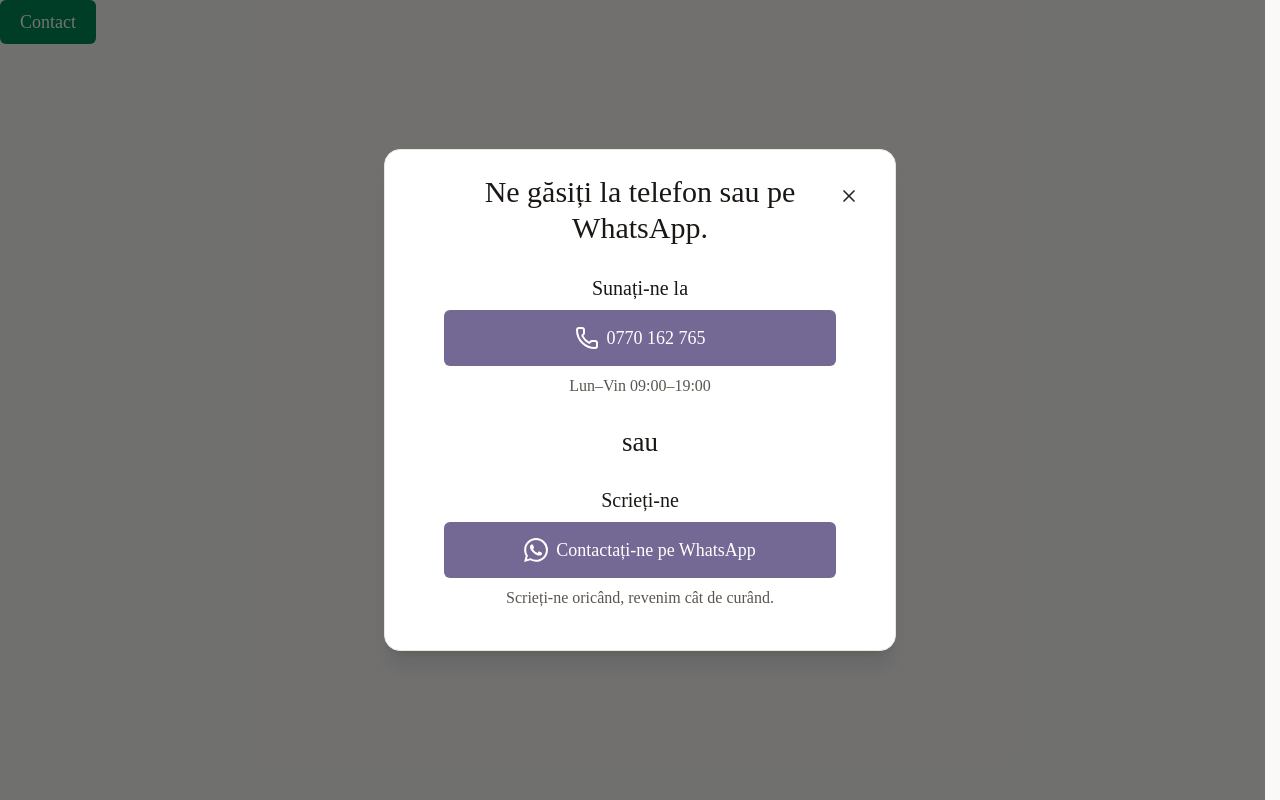
Test: ContactModal — every exit path (§9) › closes on a press that starts and ends on the scrim
Click the dialog "Ne găsiți la telefon sau pe WhatsApp.". click: (640, 400)
box: [384,149,896,651]
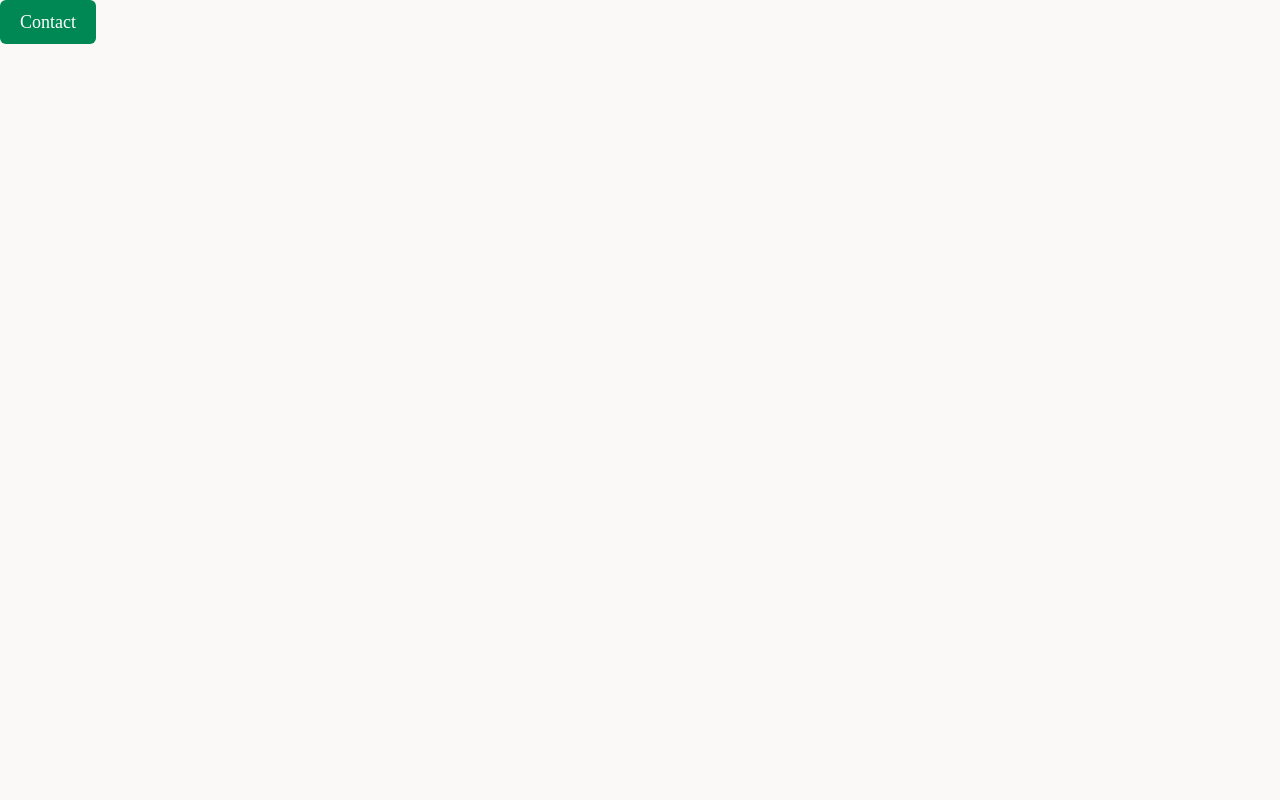
Expected: the dialog is gone
